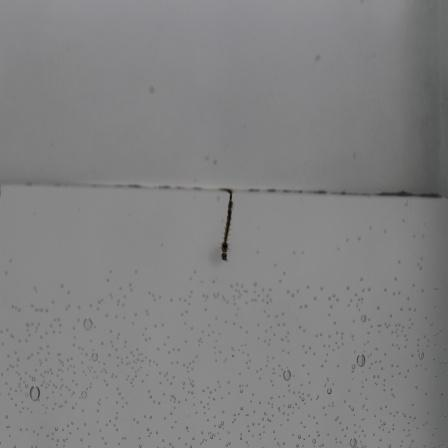Jentik-Nyamuk: (213, 188, 238, 268)
